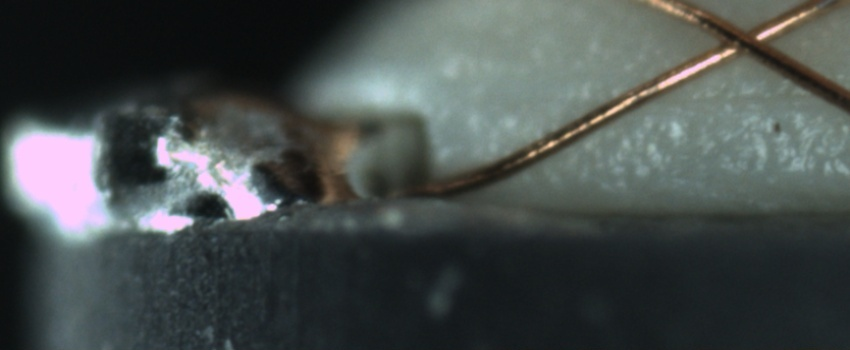CL: (695, 8, 790, 67)
DL: (554, 77, 835, 128)
